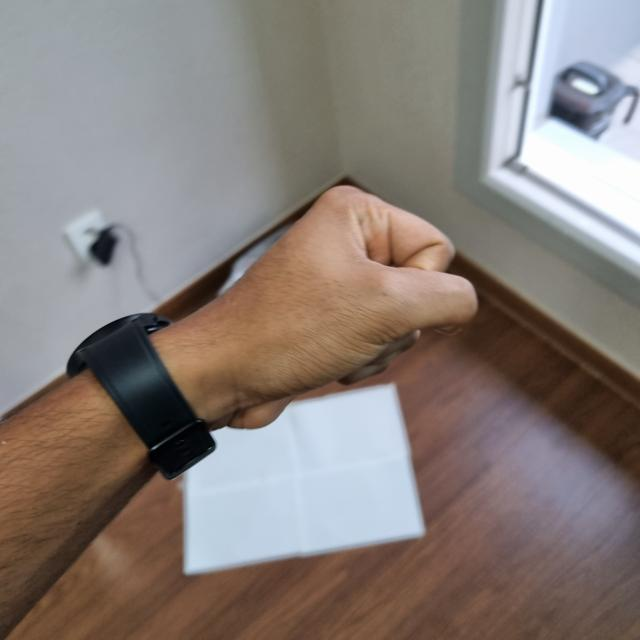Rock: (164, 187, 474, 422)
